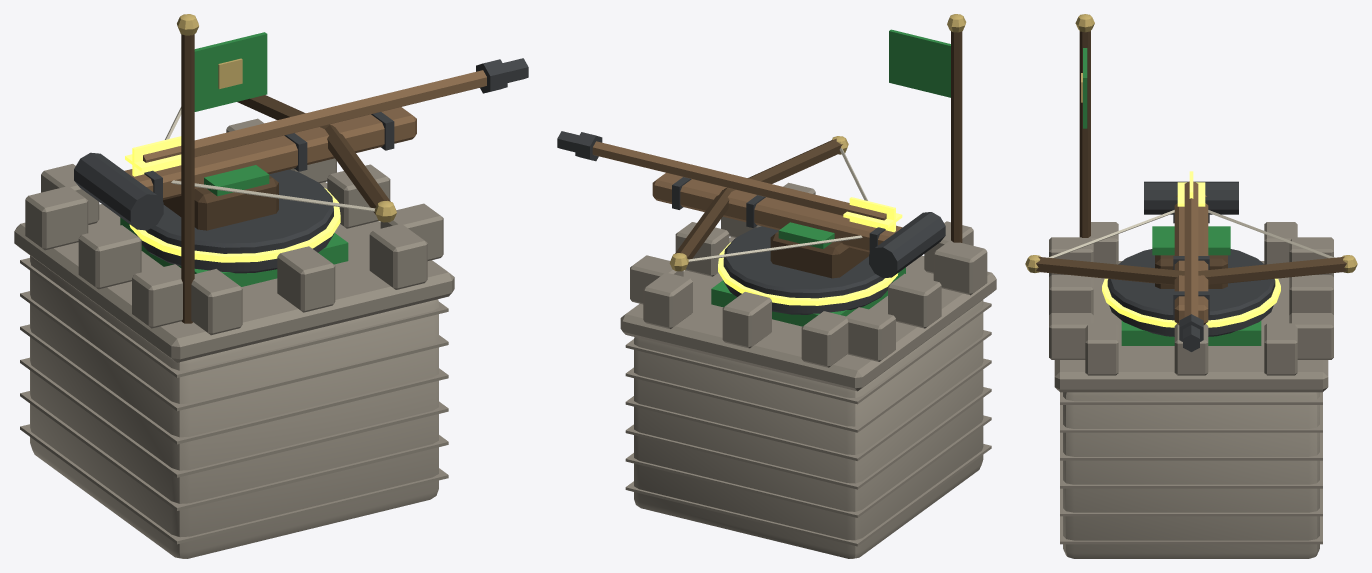
File: gtowerB.glb
3 renders of one model, left to right at view 1: azimuth 30°, elevation 25°; view 2: azimuth 150°, elevation 25°; view 3: azimuth 270°, elevation 25°, orthographic. The views are drawn at different scales.
Visible parts, largest first — view 1: GtowerB_Walls, GtowerB_Details, GtowerB_head, GtowerB_Frame, GtowerB_arrow; view 2: GtowerB_Walls, GtowerB_Details, GtowerB_head, GtowerB_Frame, GtowerB_arrow; view 3: GtowerB_Walls, GtowerB_Details, GtowerB_head, GtowerB_Frame, GtowerB_arrow.
Boxes of the visible parts, box(x1,y1,x2,y2) form: GtowerB_Walls: box(14, 182, 454, 558); GtowerB_Details: box(20, 14, 448, 544); GtowerB_head: box(74, 95, 416, 230); GtowerB_Frame: box(136, 169, 333, 273); GtowerB_arrow: box(125, 58, 528, 176); GtowerB_Walls: box(620, 237, 996, 558); GtowerB_Details: box(625, 14, 991, 546); GtowerB_head: box(652, 136, 945, 278); GtowerB_Frame: box(723, 226, 892, 314); GtowerB_arrow: box(557, 131, 902, 232); GtowerB_Walls: box(1054, 261, 1328, 558); GtowerB_Details: box(1049, 14, 1333, 544); GtowerB_head: box(1025, 181, 1357, 324); GtowerB_Frame: box(1107, 249, 1275, 336); GtowerB_arrow: box(1177, 171, 1205, 351).
Size of the model in its own units: 1.51 by 1.77 by 1.19.
